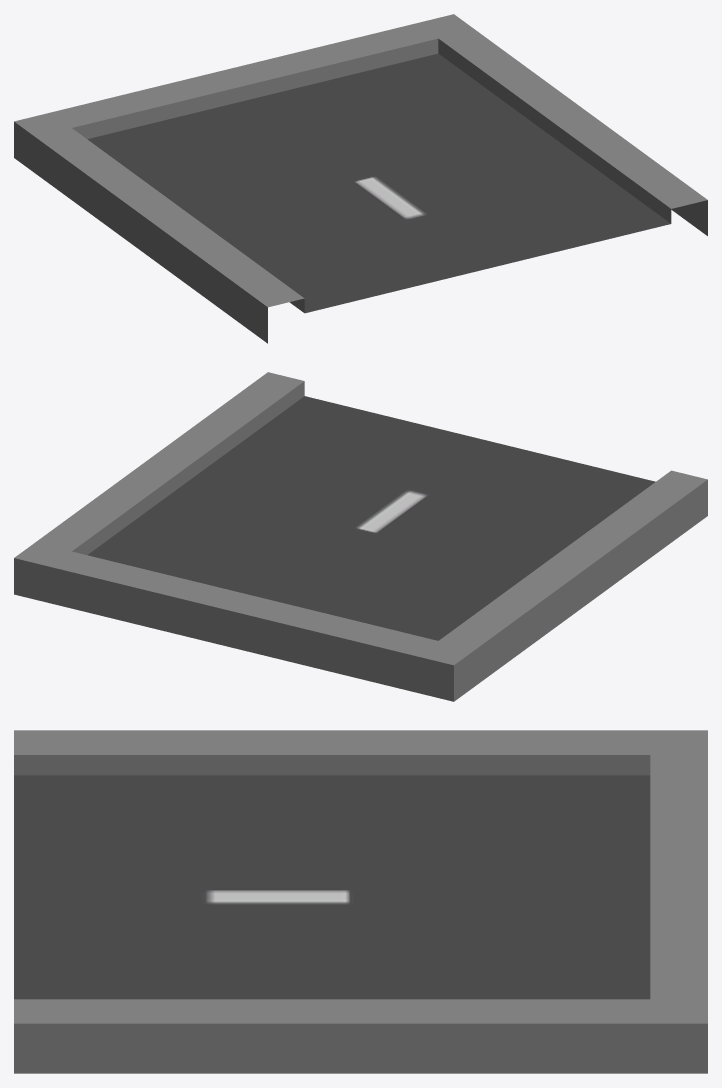
Rendered from Road dead end.fbx.
3 views of the same model, one above another, from view 1: azimuth 30°, elevation 25°; view 2: azimuth 150°, elevation 25°; view 3: azimuth 270°, elevation 25° (orthographic). The views are drawn at different scales.
Visible parts, largest first — view 1: Road dead end mesh; view 2: Road dead end mesh; view 3: Road dead end mesh.
Boxes of the visible parts, x1,y1,x2,y2 form: Road dead end mesh: [14, 14, 707, 343]; Road dead end mesh: [14, 372, 707, 701]; Road dead end mesh: [14, 730, 707, 1073].
Size of the model in its own units: 0.9999 by 0.0792 by 0.9999.
